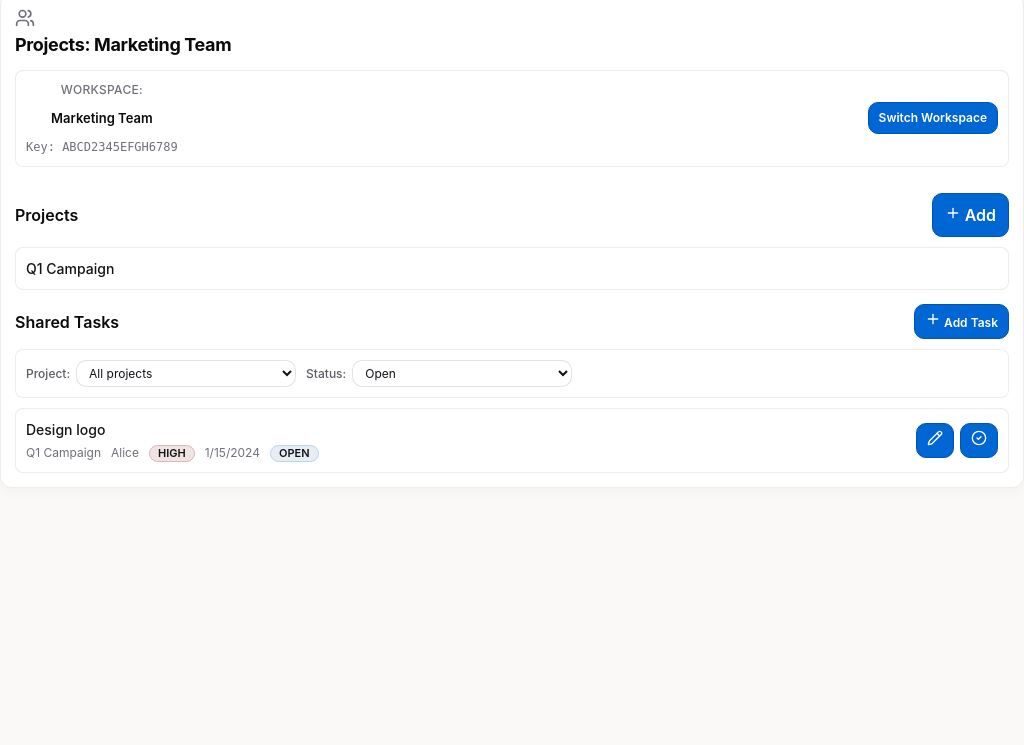
Test case: ProjectsPanel › Task editor › empty title shows validation error and does not save
The width and height of the screenshot is (1024, 745).
Click the button titled "Edit task" at x=935, y=441, box [916, 423, 954, 458]
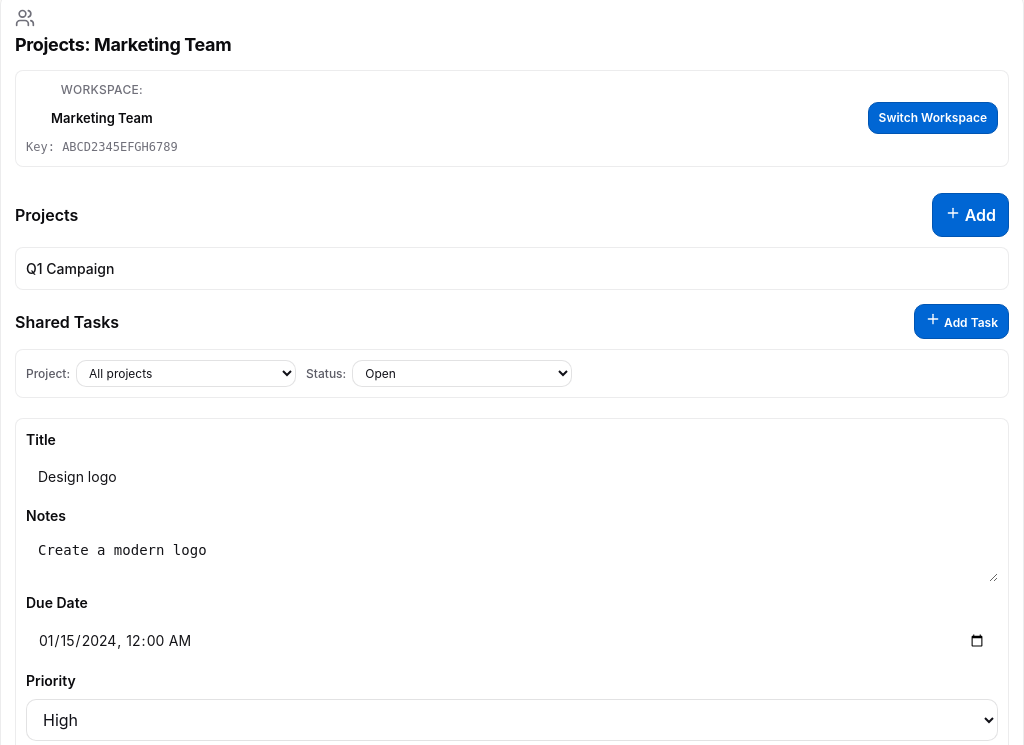
Clear the field labelled "Title" at x=512, y=477, box [26, 458, 998, 495]
(page scrolled)
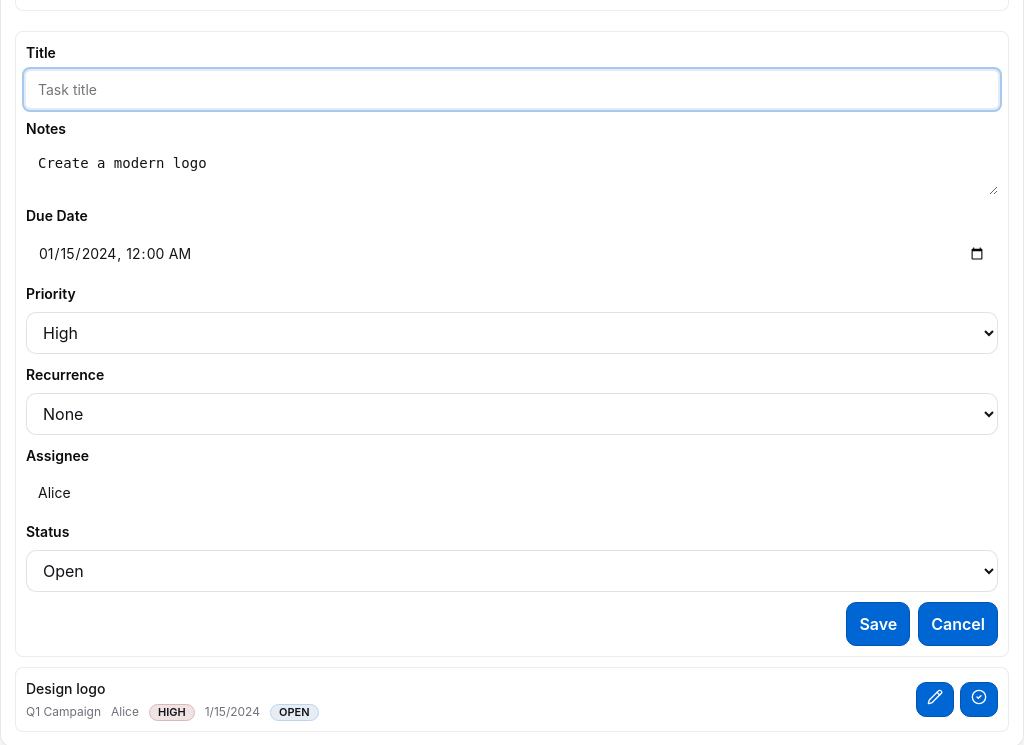
Click the button "Save" at x=878, y=624, box [846, 602, 910, 646]
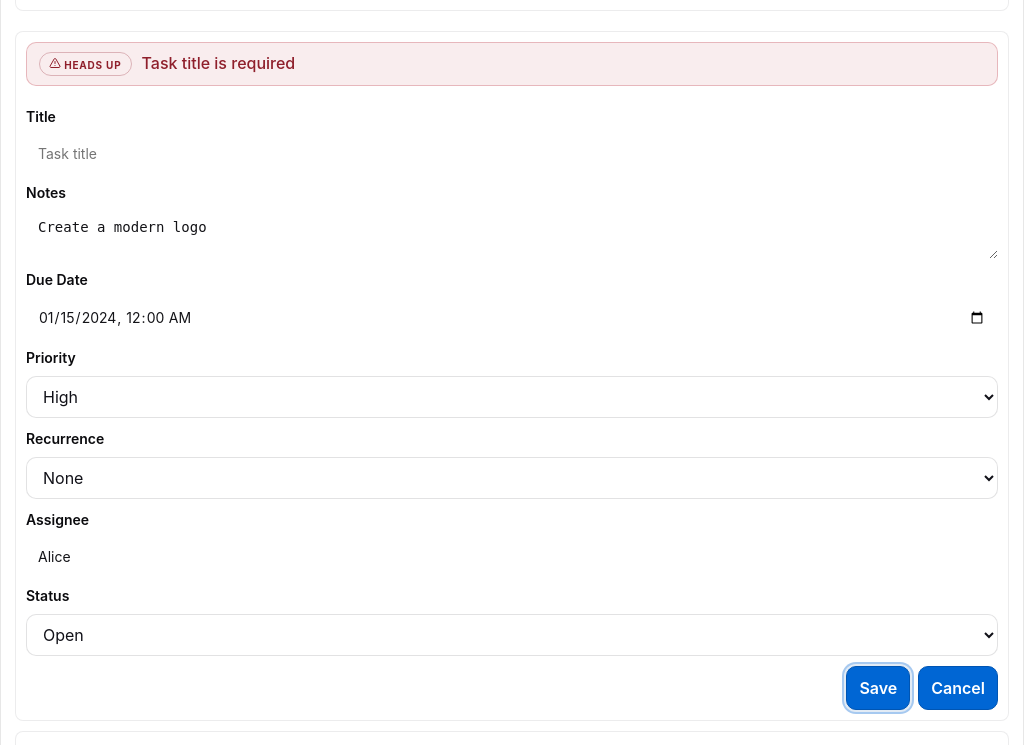
Now the text "Task title is required" is shown, box [142, 53, 295, 73]
